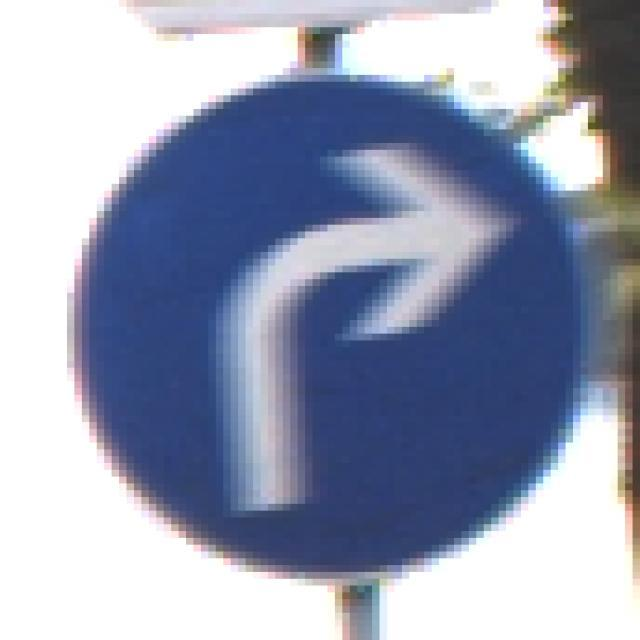compulsary turn right ahead: (45, 61, 596, 597)
